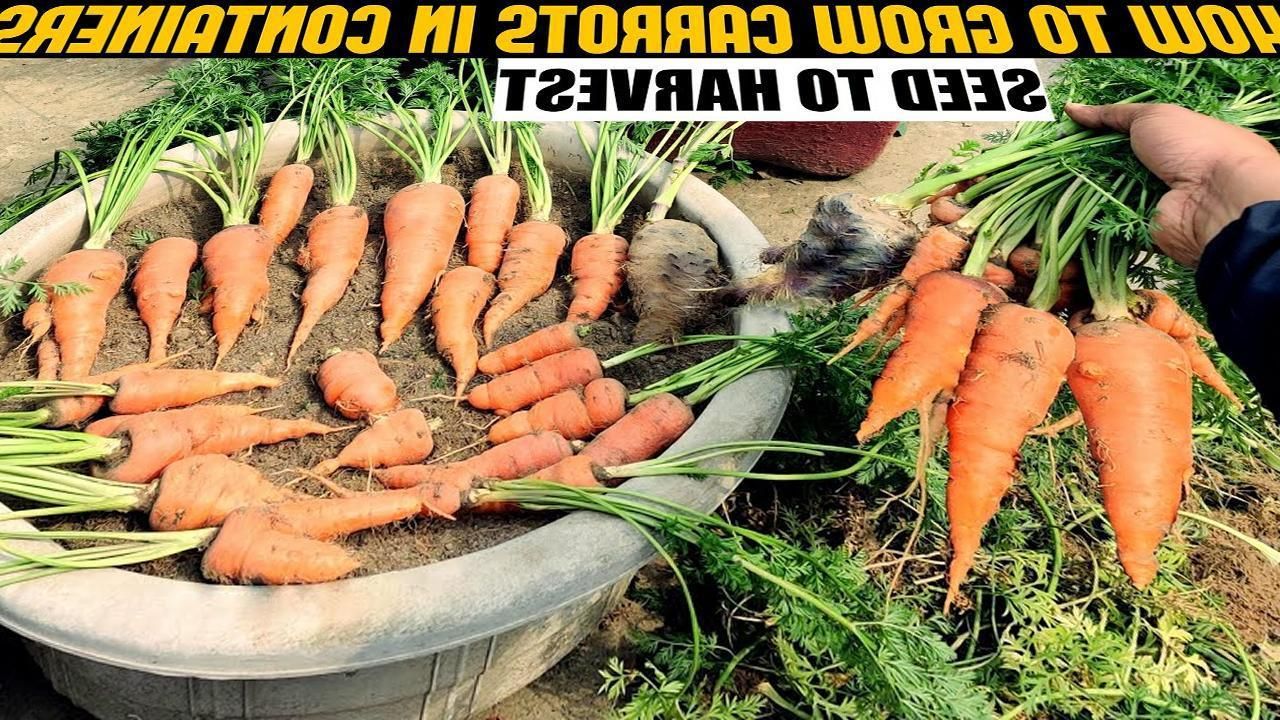carrot: (0, 370, 430, 578), (958, 278, 1185, 613), (912, 269, 1059, 595), (382, 177, 619, 344), (479, 328, 673, 473), (20, 249, 123, 397), (392, 451, 608, 512), (196, 208, 270, 372), (906, 214, 985, 358), (129, 239, 201, 360), (257, 163, 306, 268), (309, 209, 358, 291)
